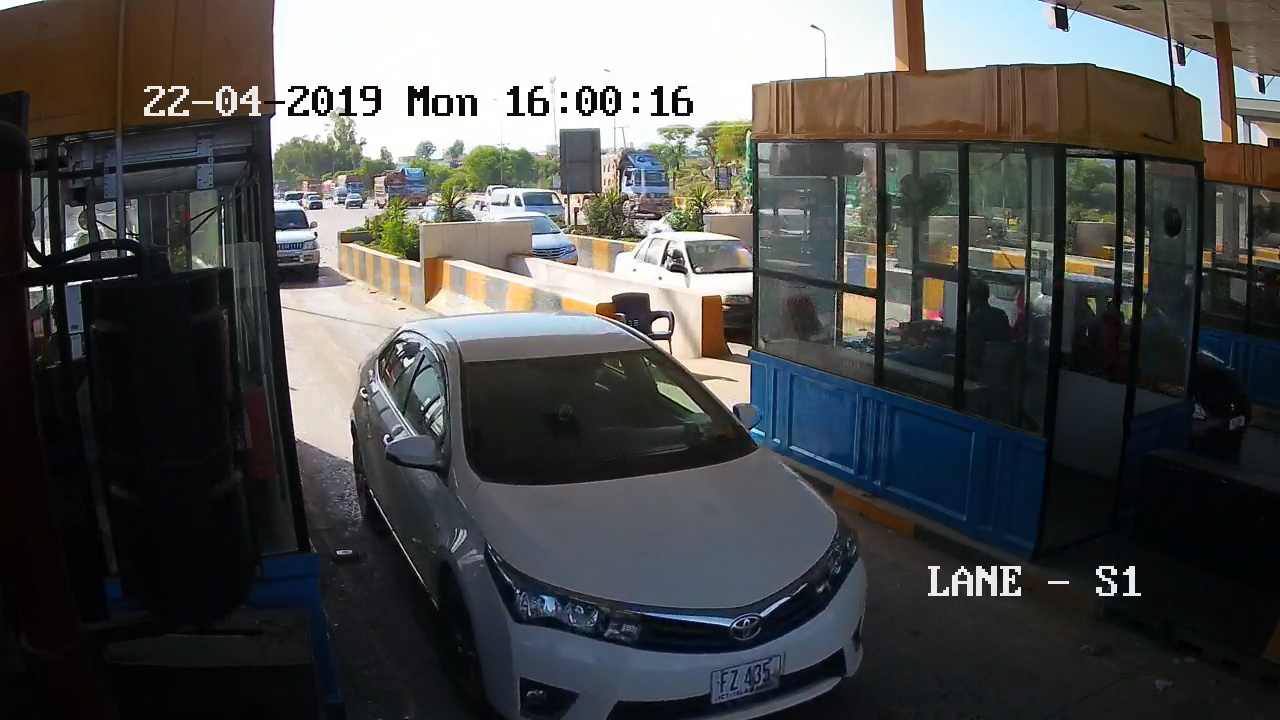car: (332, 311, 877, 720), (271, 200, 347, 311)
